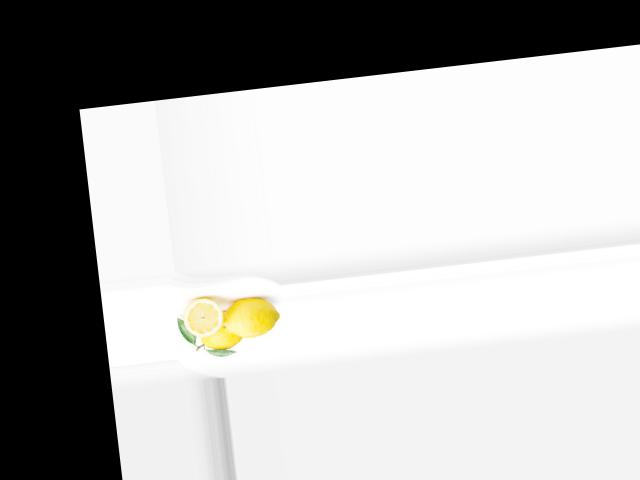lemon: (192, 311, 246, 354)
